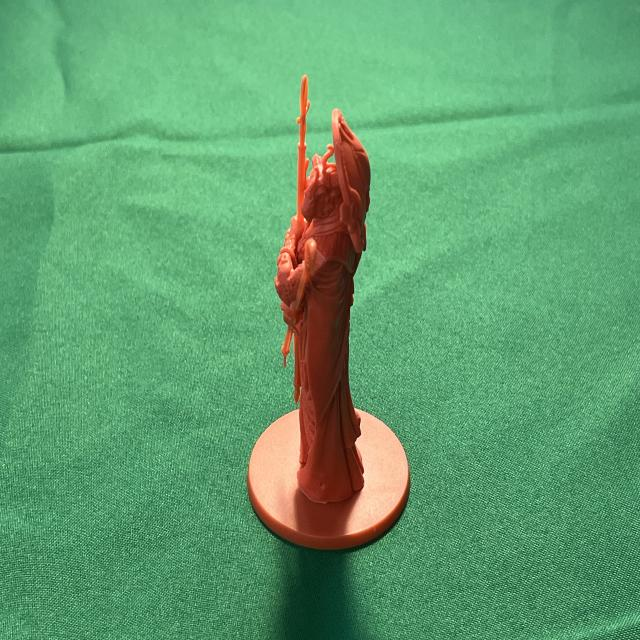amon: (240, 69, 414, 558)
